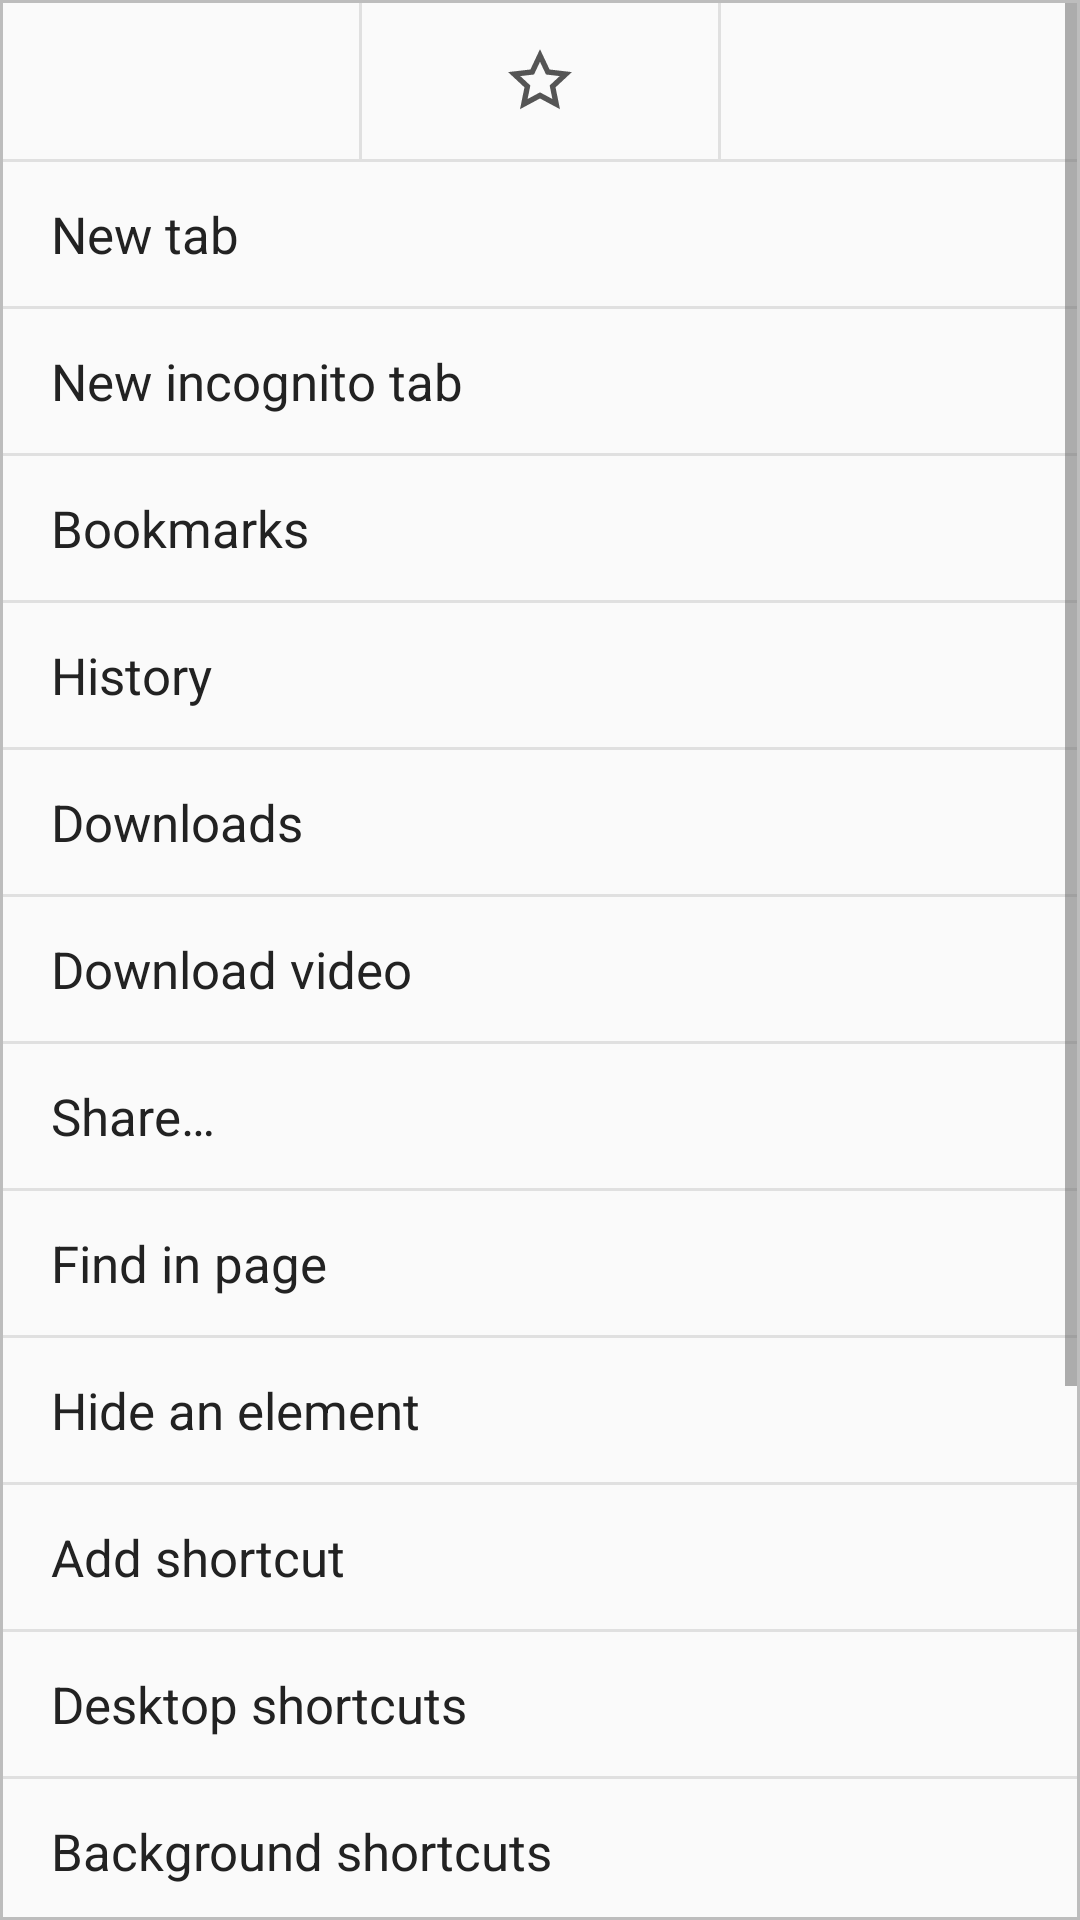

Locate icon controls on the screen. Image size 1080 x 1920, boxes as [x1, y1, x2, y2].
Bookmark this page: [508, 50, 572, 109]
